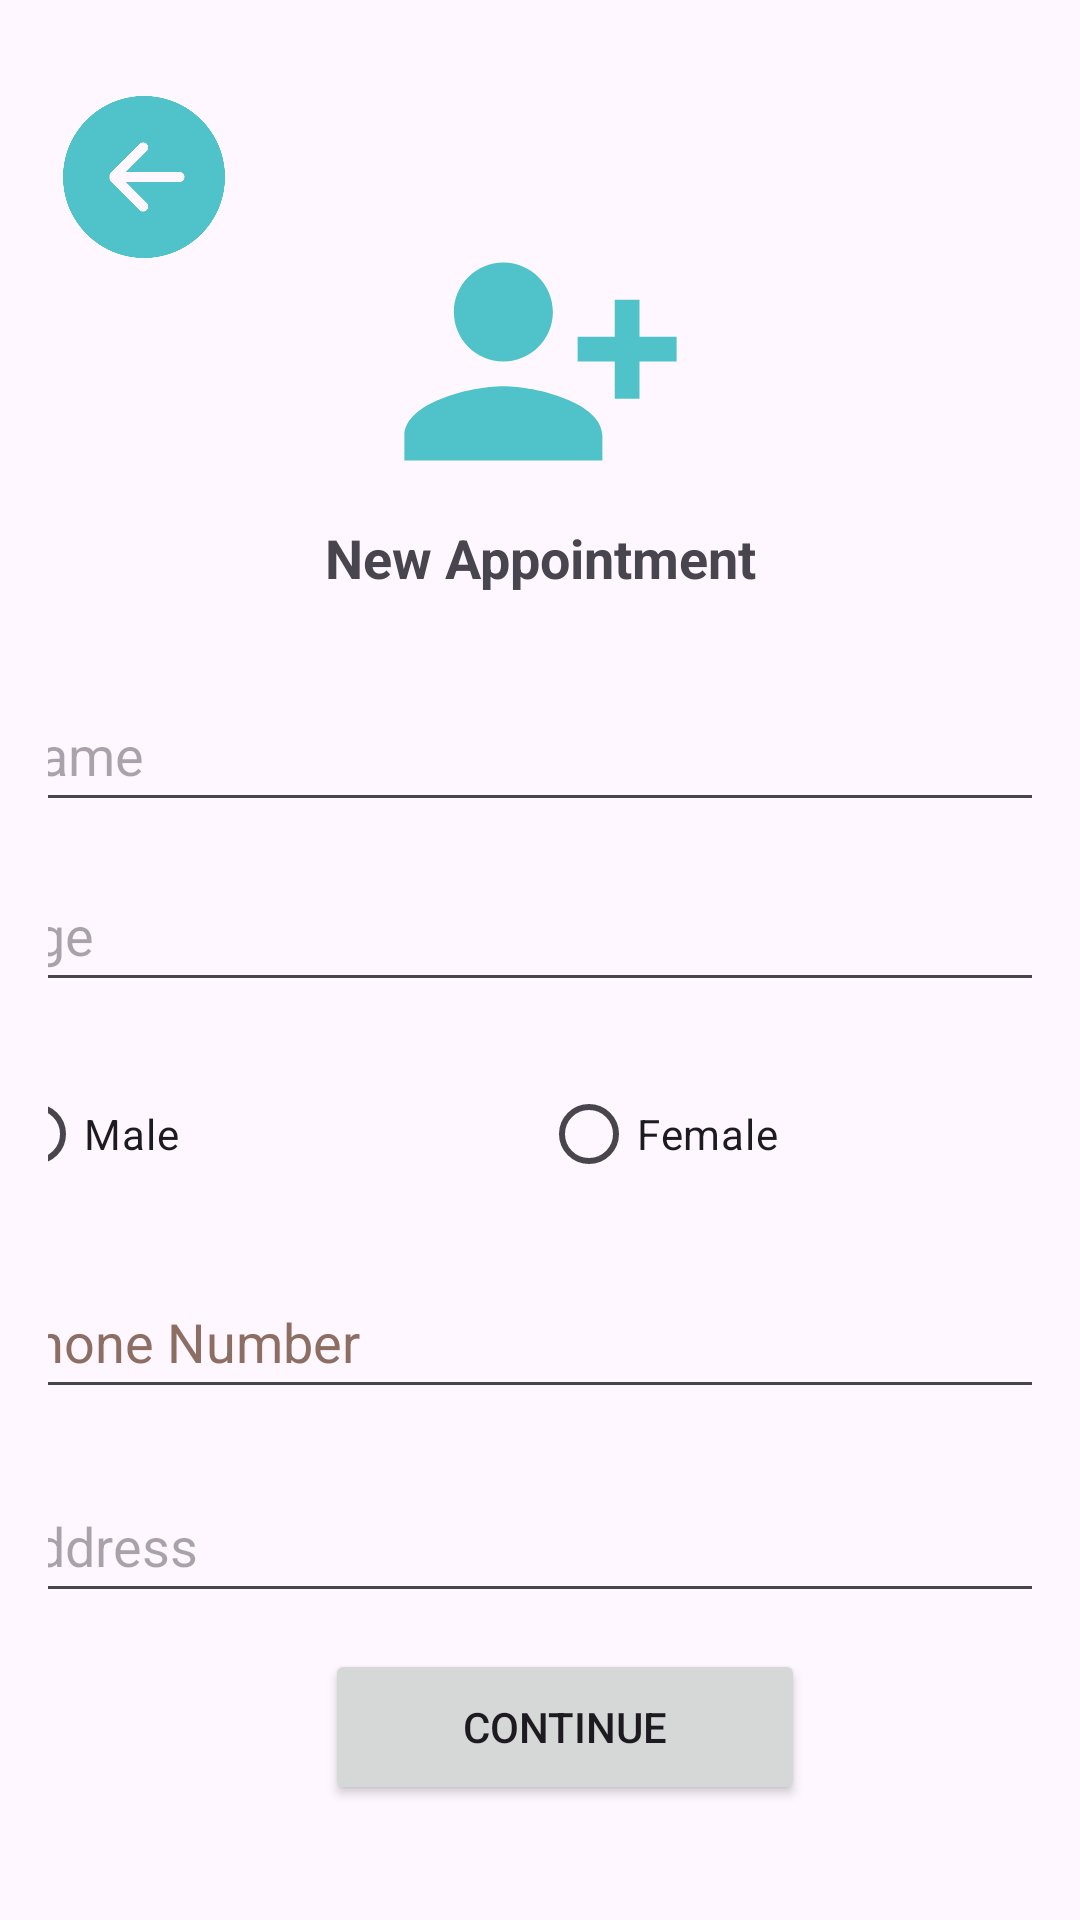

Icon bounding boxes for this 1080*1920 phone screenshot, format (x1, y1, x2, y2):
back arrow: (63, 96, 225, 258)
person add: (404, 262, 677, 461)
